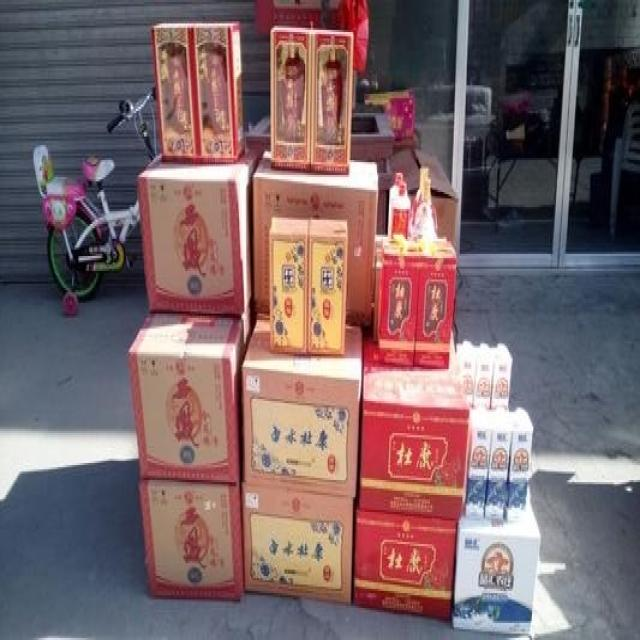box: (138, 132, 269, 314), (253, 147, 379, 324), (125, 309, 252, 484), (241, 314, 361, 497), (359, 333, 471, 518), (241, 484, 354, 602), (453, 497, 542, 638), (138, 482, 245, 597), (354, 503, 457, 619), (191, 21, 246, 164), (151, 23, 199, 160), (312, 28, 355, 175), (271, 28, 312, 171), (375, 237, 419, 365), (307, 220, 349, 354), (270, 215, 311, 352), (413, 237, 456, 367)
